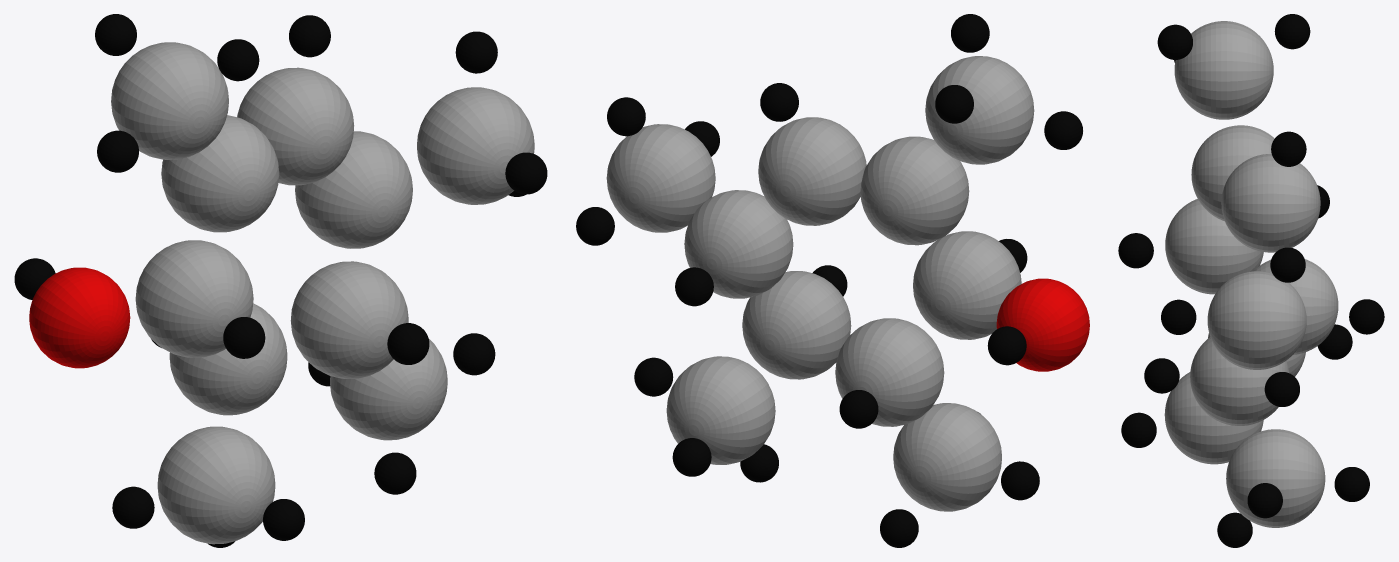
Rendered from Menthol.glb.
3 views of the same model, side by side, from view 1: azimuth 30°, elevation 25°; view 2: azimuth 150°, elevation 25°; view 3: azimuth 270°, elevation 25° (orthographic). The views are drawn at different scales.
Parts seen in each view (by area): view 1: world; view 2: world; view 3: world.
Boxes of the visible parts, left/top/right/bottom form: world: left=14, top=14, right=547, bottom=547; world: left=576, top=14, right=1089, bottom=547; world: left=1118, top=14, right=1384, bottom=547.
Size of the model in its own units: 7.16 by 7.15 by 3.75.
